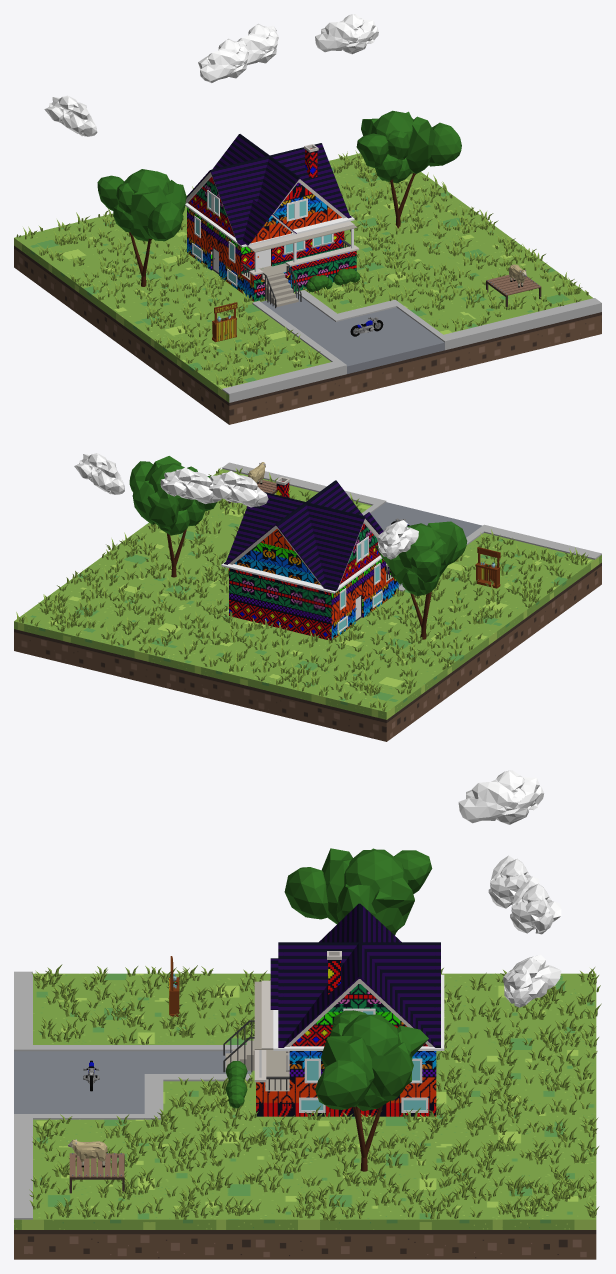
3 renders of one model, top to bottom at view 1: azimuth 30°, elevation 25°; view 2: azimuth 150°, elevation 25°; view 3: azimuth 270°, elevation 25°, orthographic. The views are drawn at different scales.
Parts seen in each view (by area): view 1: Cube.006, Cube.966, Circle.012_Grass_0.192, Cube.007, tree, tree.001, OBJRANDOM_LEMONADE_STAND, Cube.009; view 2: Cube.006, Cube.966, Circle.012_Grass_0.192, Cube.007, tree.001, tree, OBJRANDOM_LEMONADE_STAND; view 3: Cube.006, Circle.012_Grass_0.192, Cube.966, tree, Cube.007, tree.001, Cube.009, ANIMAL_OVEJA.
Part boxes in pixels (x1=…): Cube.006: x1=14, y1=153, x2=601, y2=424; Cube.966: x1=185, y1=134, x2=359, y2=308; Circle.012_Grass_0.192: x1=16, y1=150, x2=588, y2=386; Cube.007: x1=44, y1=14, x2=378, y2=136; tree: x1=356, y1=110, x2=461, y2=228; tree.001: x1=97, y1=169, x2=186, y2=286; OBJRANDOM_LEMONADE_STAND: x1=212, y1=302, x2=237, y2=342; Cube.009: x1=486, y1=275, x2=541, y2=306; Cube.006: x1=14, y1=462, x2=601, y2=741; Cube.966: x1=221, y1=477, x2=398, y2=640; Circle.012_Grass_0.192: x1=16, y1=468, x2=588, y2=711; Cube.007: x1=74, y1=453, x2=418, y2=559; tree.001: x1=375, y1=521, x2=467, y2=639; tree: x1=129, y1=456, x2=216, y2=577; OBJRANDOM_LEMONADE_STAND: x1=475, y1=547, x2=500, y2=588; Cube.006: x1=14, y1=971, x2=596, y2=1259; Circle.012_Grass_0.192: x1=29, y1=964, x2=601, y2=1220; Cube.966: x1=223, y1=903, x2=444, y2=1116; tree: x1=315, y1=1010, x2=428, y2=1171; Cube.007: x1=458, y1=770, x2=561, y2=1007; tree.001: x1=284, y1=848, x2=432, y2=935; Cube.009: x1=69, y1=1153, x2=124, y2=1193; ANIMAL_OVEJA: x1=68, y1=1139, x2=107, y2=1167.
Size of the model in its own units: 4071 by 2179 by 4040.
40 materials, 7 textured.
